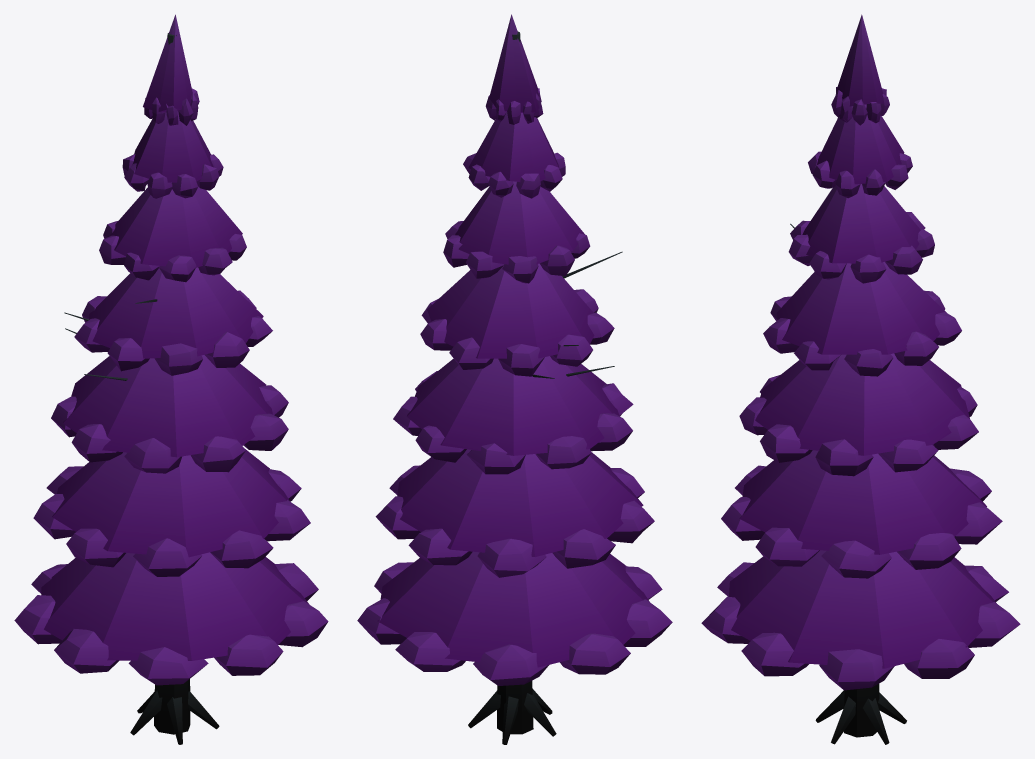
Rendered from dusk_tree_b.glb.
3 views of the same model, side by side, from view 1: azimuth 30°, elevation 25°; view 2: azimuth 150°, elevation 25°; view 3: azimuth 270°, elevation 25° (orthographic).
Visible parts, largest first — view 1: dusk_tree_b; view 2: dusk_tree_b; view 3: dusk_tree_b.
Boxes of the visible parts, x1,y1,x2,y2 form: dusk_tree_b: [14, 14, 328, 744]; dusk_tree_b: [357, 14, 672, 744]; dusk_tree_b: [701, 14, 1020, 744].
Bounding box in the file's own units: 7.27 × 18.79 × 7.58.
Materials: 1 (1 with a texture image).
